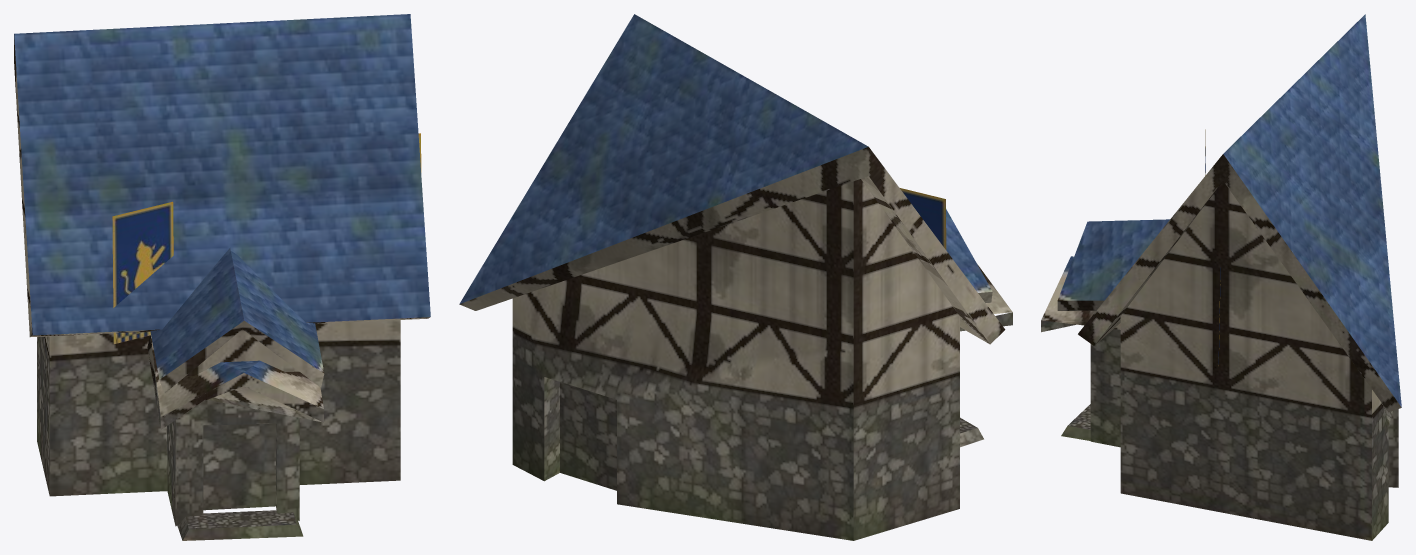
File: house_14_card_lod1.glb
3 renders of one model, left to right at view 1: azimuth 30°, elevation 25°; view 2: azimuth 150°, elevation 25°; view 3: azimuth 270°, elevation 25°, orthographic. The views are drawn at different scales.
Visible parts, largest first — view 1: house_14_game_card; view 2: house_14_game_card; view 3: house_14_game_card.
Boxes of the visible parts, <box> form: house_14_game_card: <box>14,14,430,540</box>; house_14_game_card: <box>459,14,1012,540</box>; house_14_game_card: <box>1041,14,1401,540</box>.
Size of the model in its own units: 10.55 by 9.01 by 7.98.
1 material, 1 textured.
